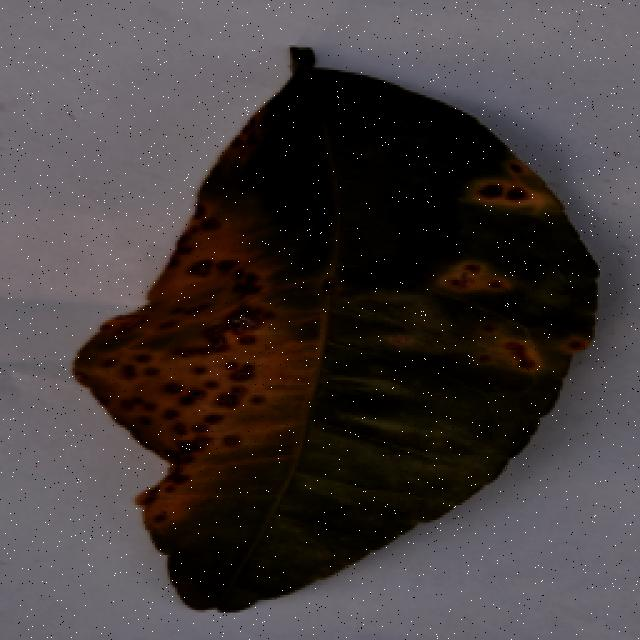canker: (70, 70, 602, 578)
